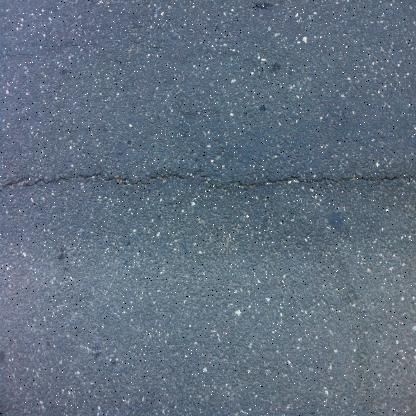Cracks: (0, 160, 415, 202)
